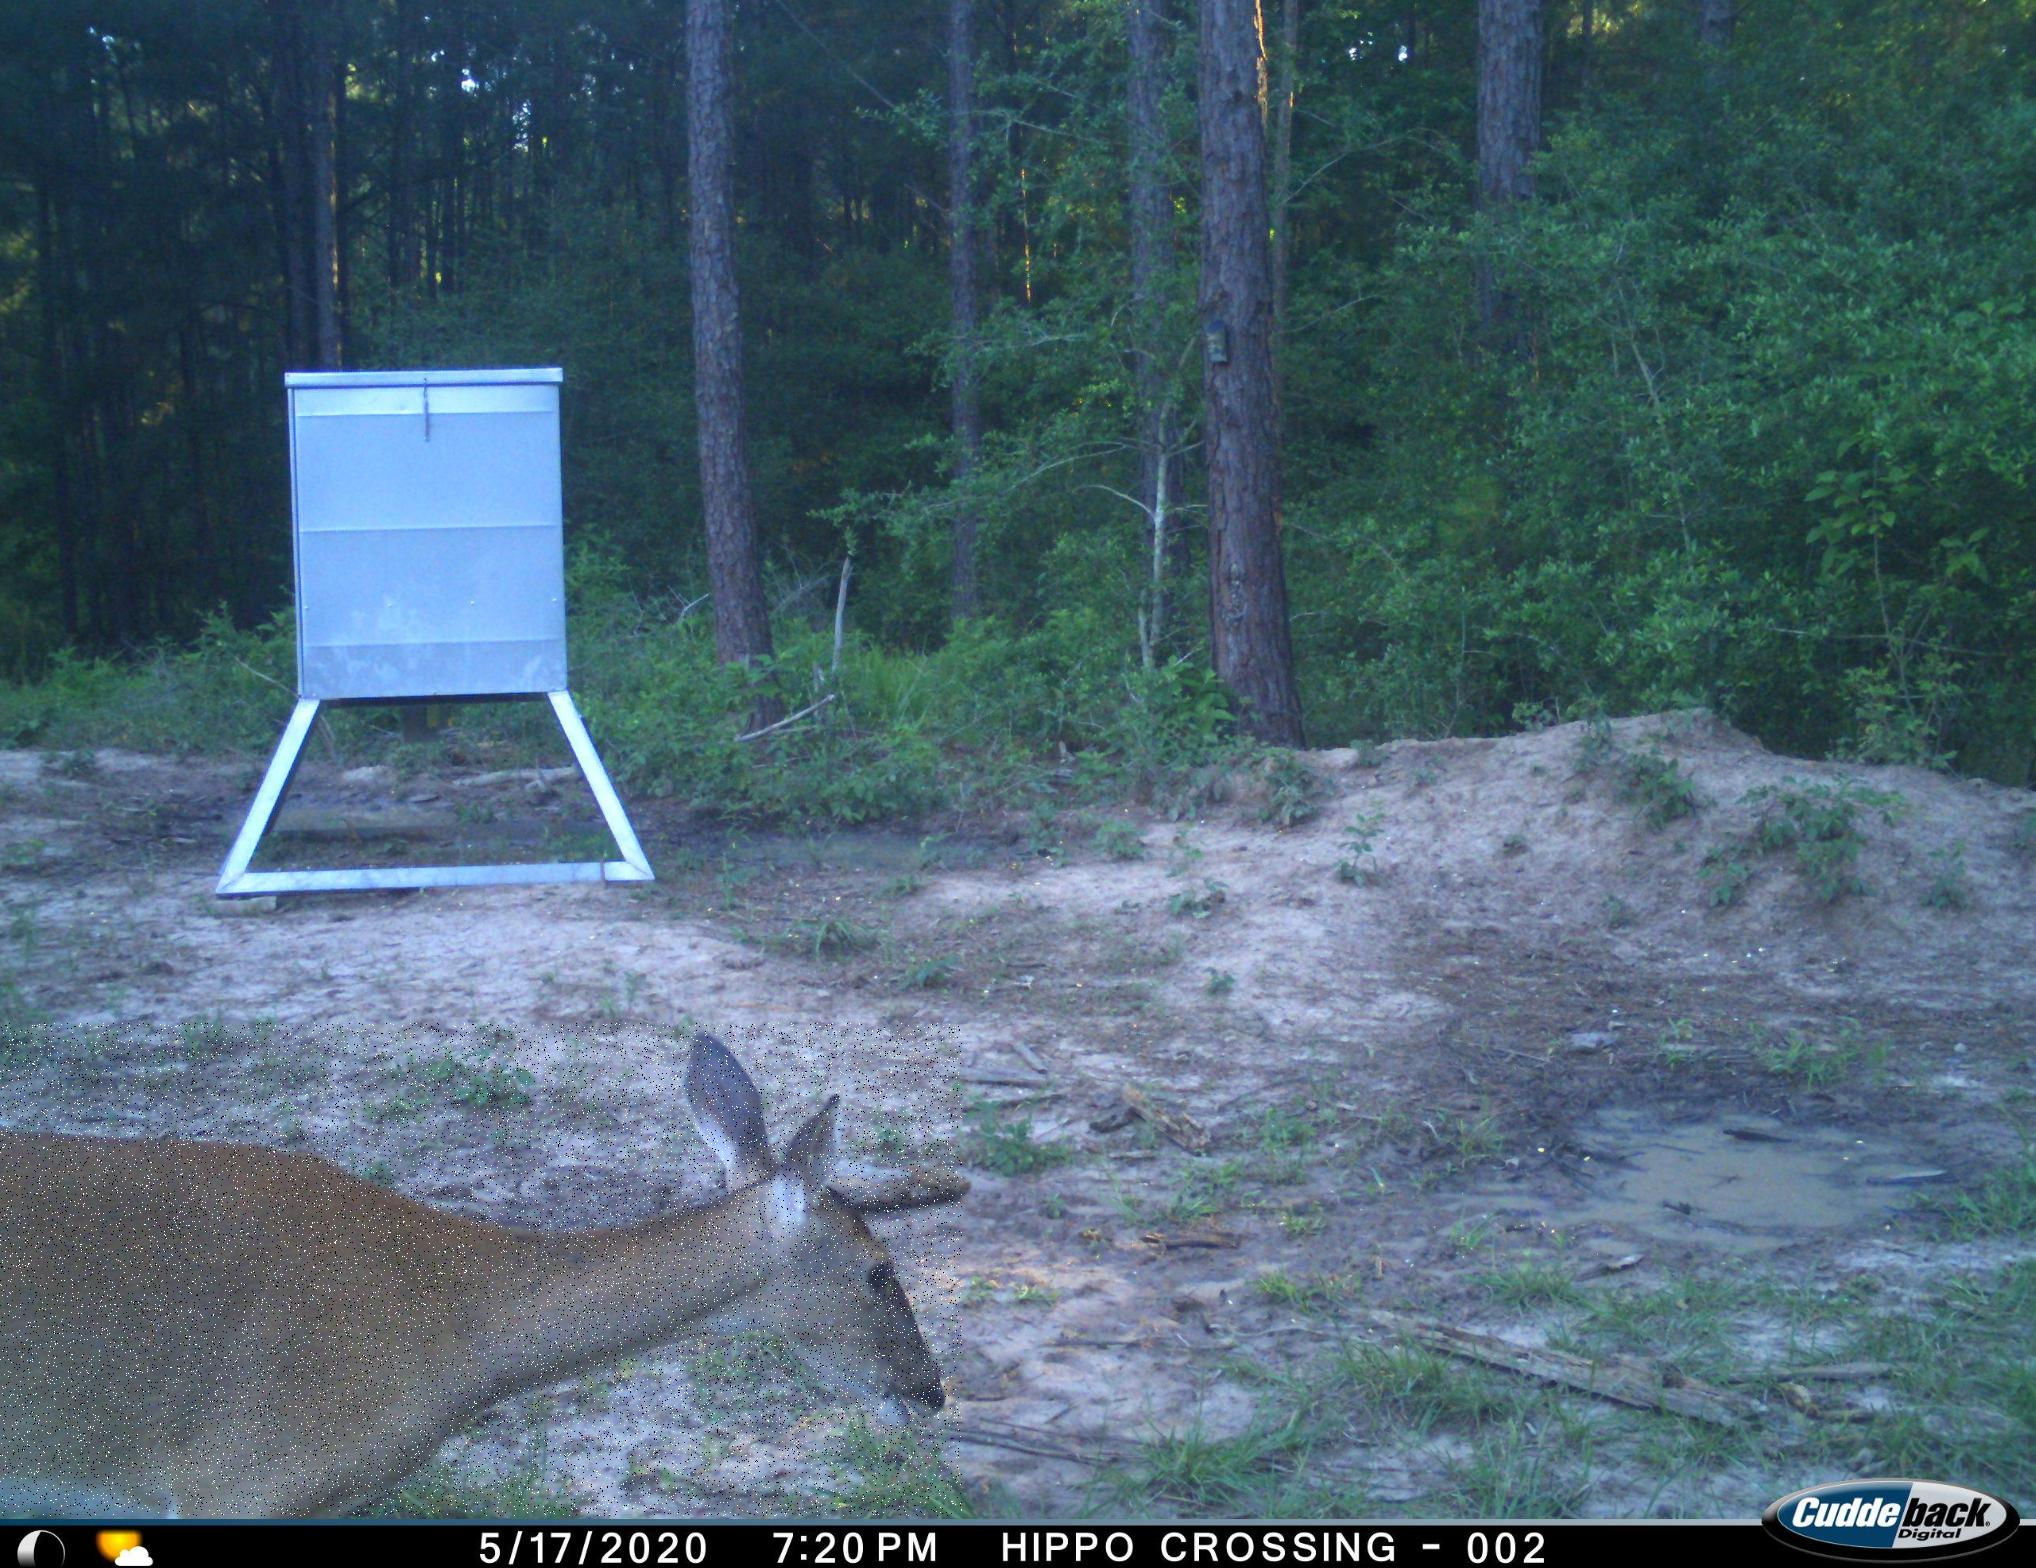Deer: (0, 1023, 962, 1515)
